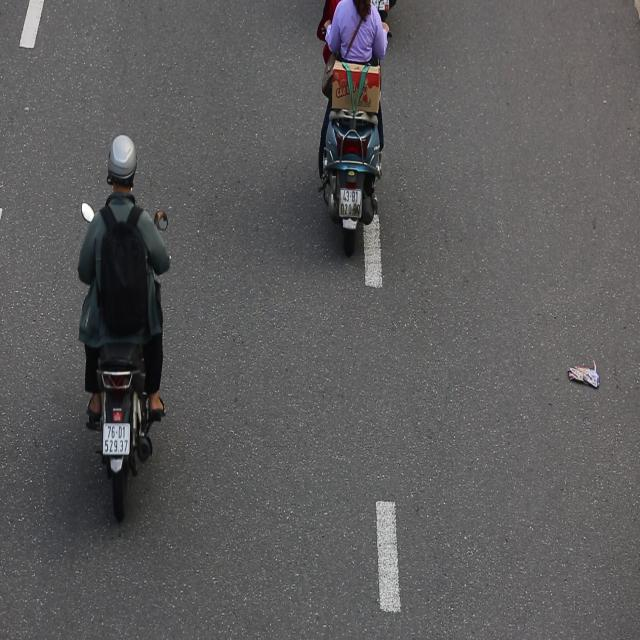motorbike: (72, 133, 188, 533)
